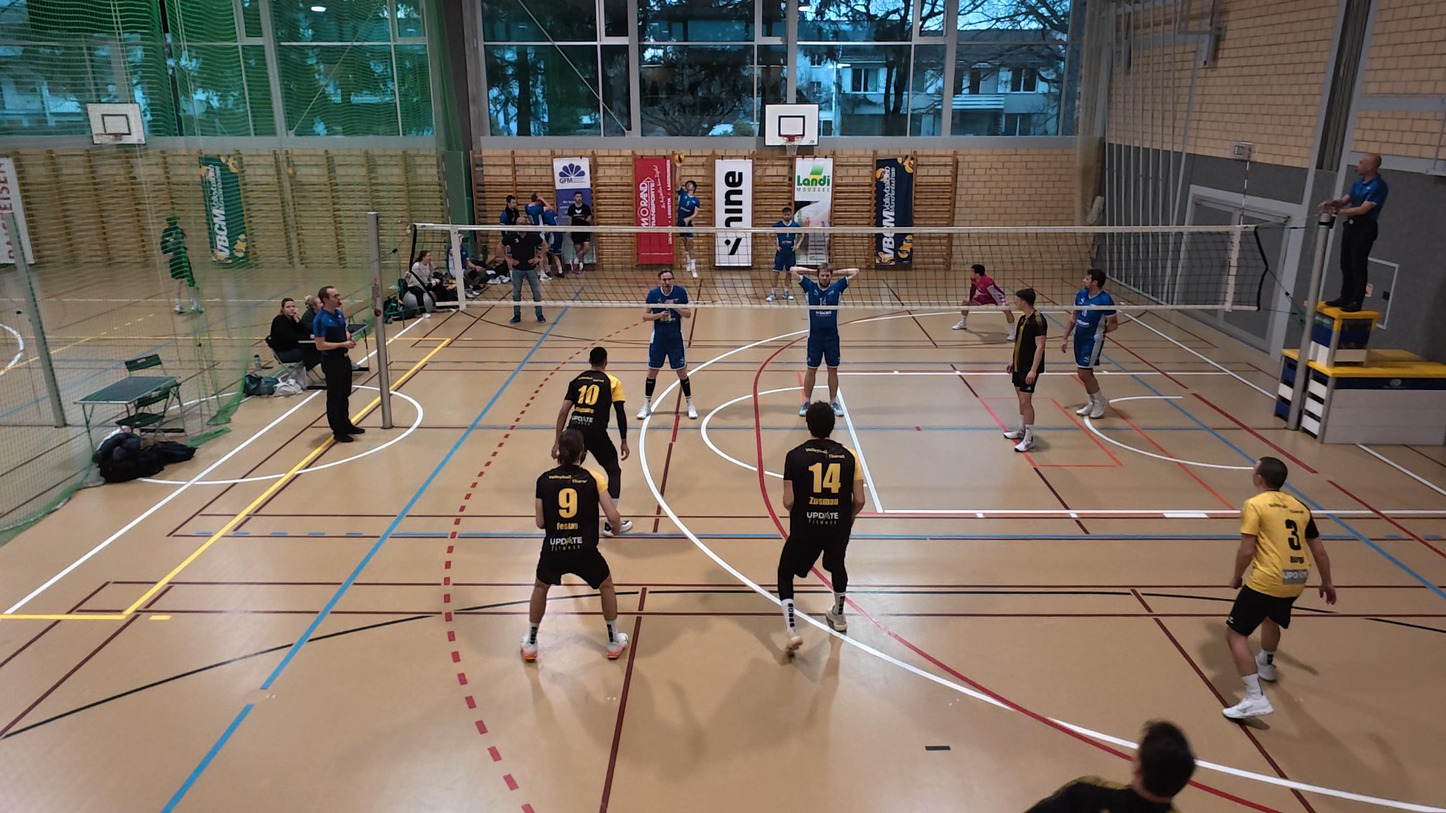Player: (1222, 456, 1336, 725), (520, 431, 631, 662), (777, 402, 860, 659), (1027, 721, 1197, 811), (555, 345, 629, 532), (796, 263, 857, 415), (639, 268, 699, 421), (1064, 270, 1119, 419), (1006, 287, 1050, 453), (764, 205, 804, 302)
Serve: (666, 147, 705, 287)
ball: (666, 144, 686, 167), (807, 168, 826, 184)
